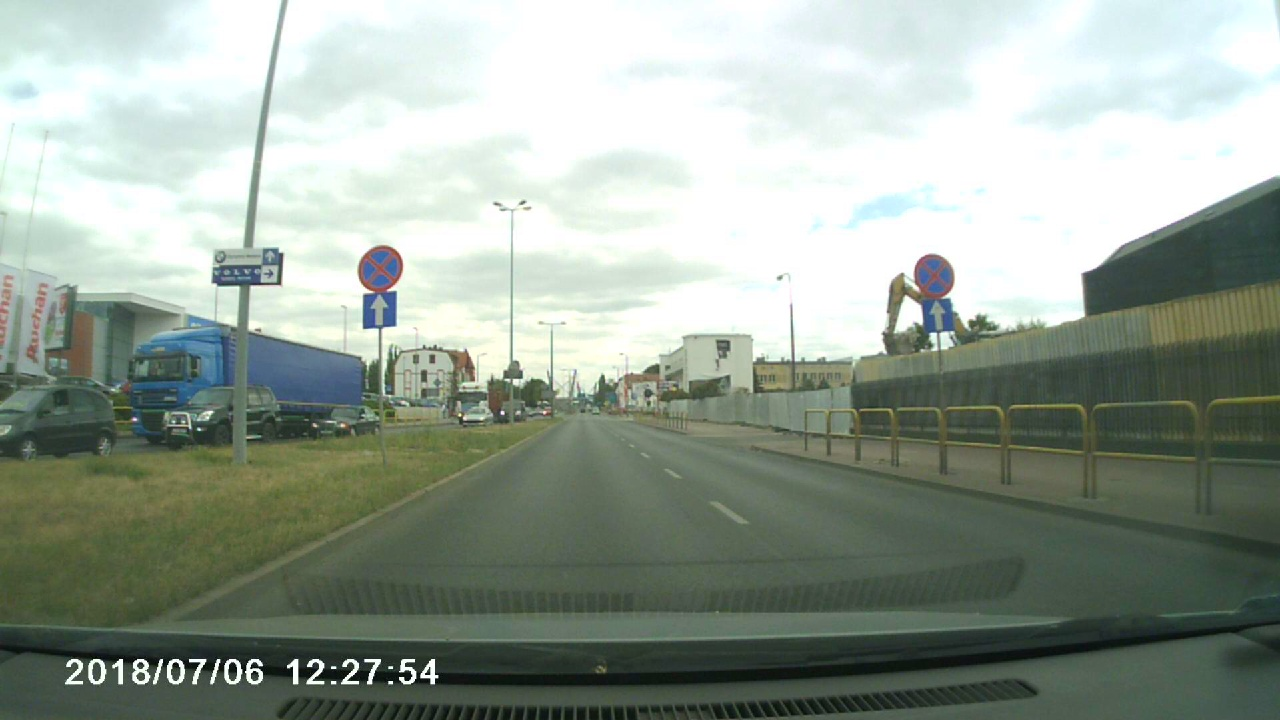B36: (358, 246, 403, 291), (913, 254, 955, 298)
D3: (361, 292, 397, 329), (920, 299, 955, 331)
